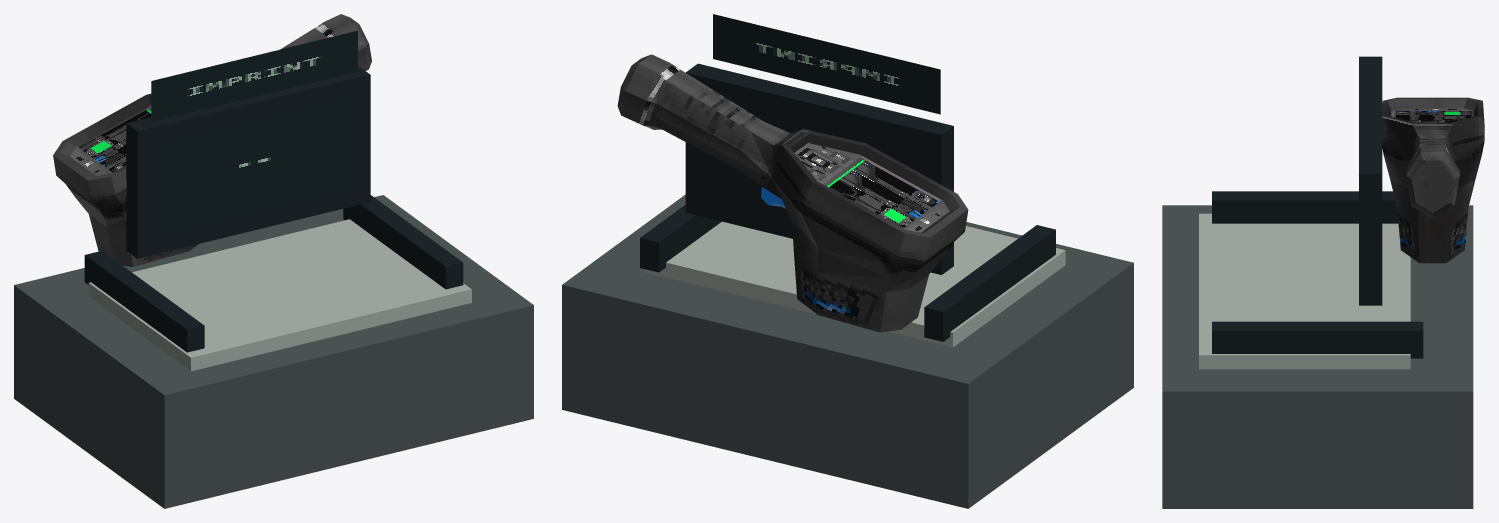
The model's file is blender_object_imprint_scanner_1.glb.
The picture shows the model from 3 angles, left to right: view 1: azimuth 30°, elevation 25°; view 2: azimuth 150°, elevation 25°; view 3: azimuth 270°, elevation 25°; orthographic projection. The views are drawn at different scales.
Parts seen in each view (by area): view 1: blender_object_imprint_scanner_1; view 2: blender_object_imprint_scanner_1; view 3: blender_object_imprint_scanner_1.
Part boxes in pixels (x1,y1,x2,y2): blender_object_imprint_scanner_1: (14, 14, 533, 508); blender_object_imprint_scanner_1: (562, 14, 1133, 508); blender_object_imprint_scanner_1: (1162, 56, 1484, 508).
Size of the model in its own units: 0.17 by 0.149 by 0.1244.
1 material, 1 textured.
